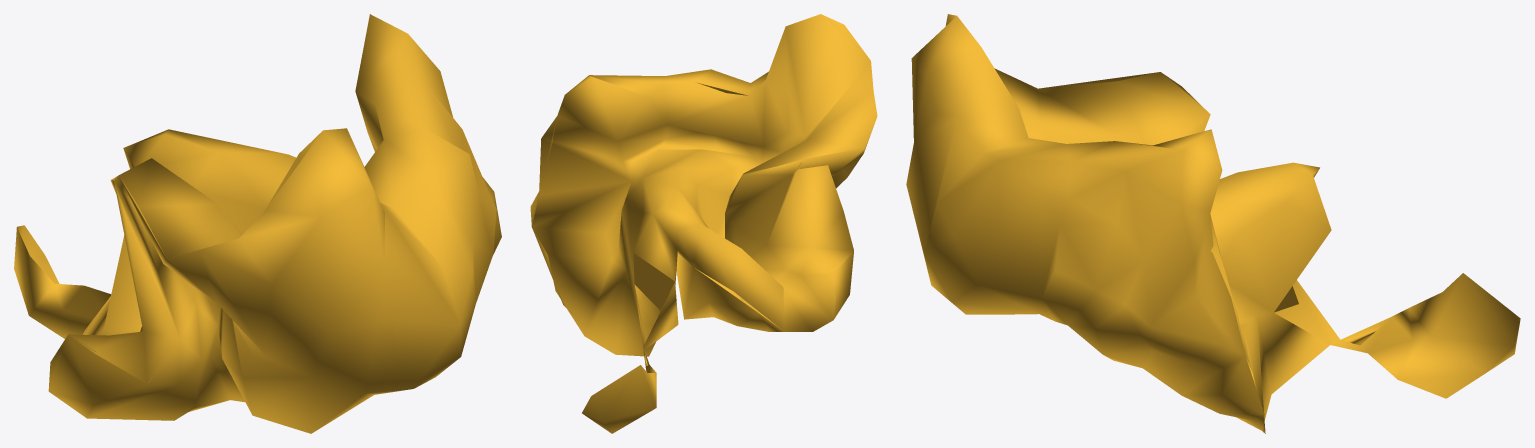
The model's file is nervoso-temporal-pole-r.glb.
The picture shows the model from 3 angles, left to right: view 1: azimuth 30°, elevation 25°; view 2: azimuth 150°, elevation 25°; view 3: azimuth 270°, elevation 25°; orthographic projection. The views are drawn at different scales.
Parts seen in each view (by area): view 1: Temporal pole.r; view 2: Temporal pole.r; view 3: Temporal pole.r.
Boxes of the visible parts, bbox=[...] form: Temporal pole.r: bbox=[14, 14, 501, 433]; Temporal pole.r: bbox=[530, 14, 877, 433]; Temporal pole.r: bbox=[906, 14, 1520, 433].
Bounding box in the file's own units: 0.0295 × 0.0277 × 0.042.
